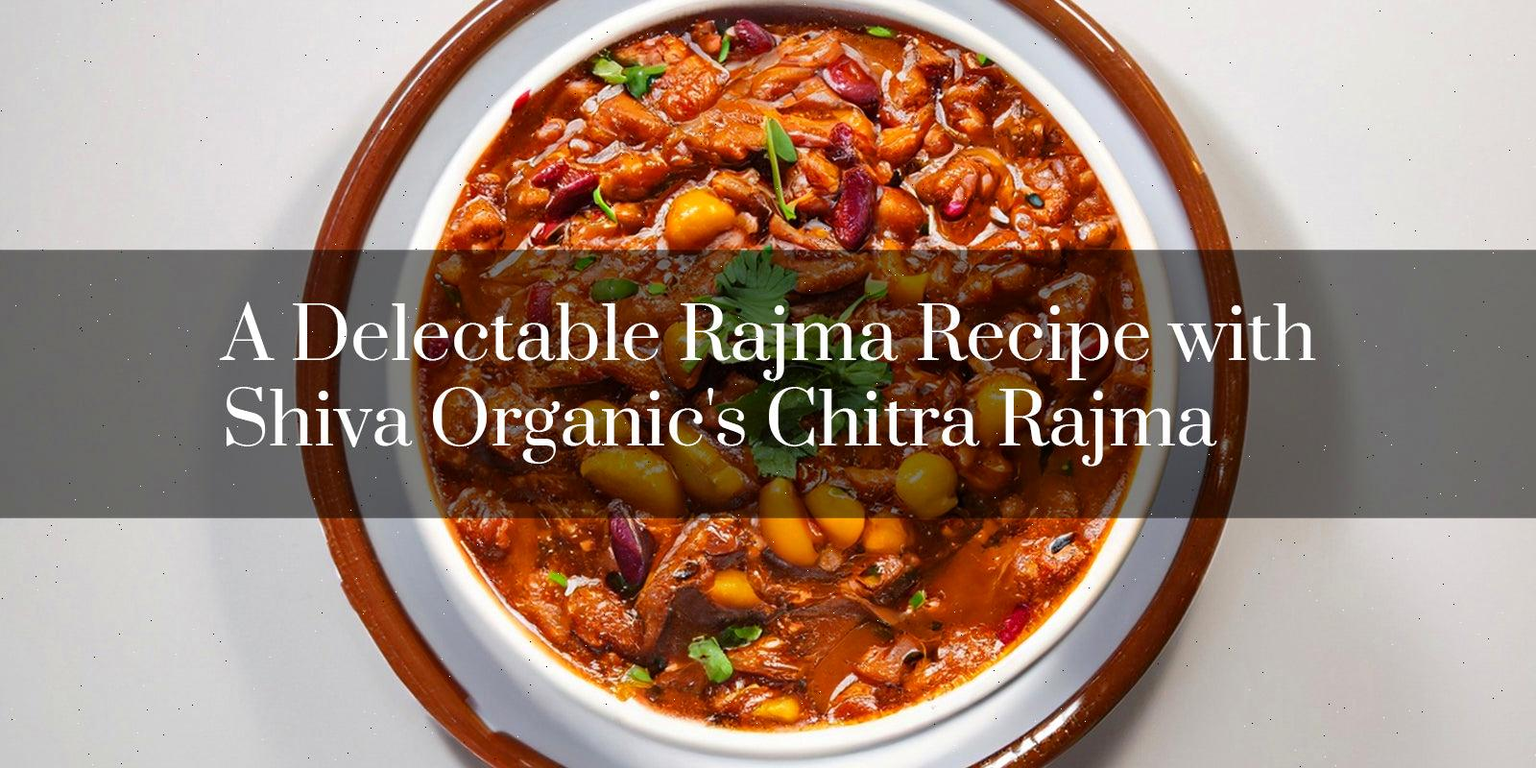rajma: (493, 35, 1117, 250)
